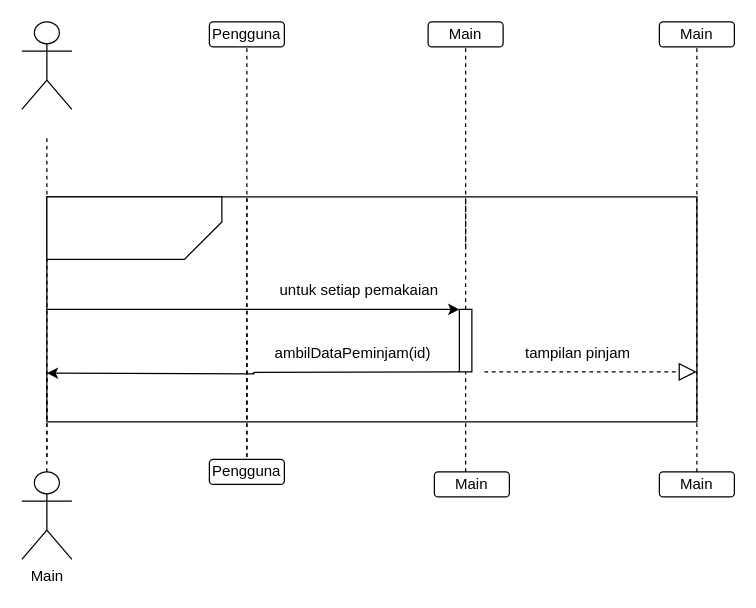
The diagram is 756 pixels wide and 608 high, and some of its shapes have lost their labels. The box of each missing label's shape, as (x1, y1, x2, y2) in pixels:
untuk setiap pengembalian: (46, 196, 222, 259)
User: (21, 21, 72, 109)
